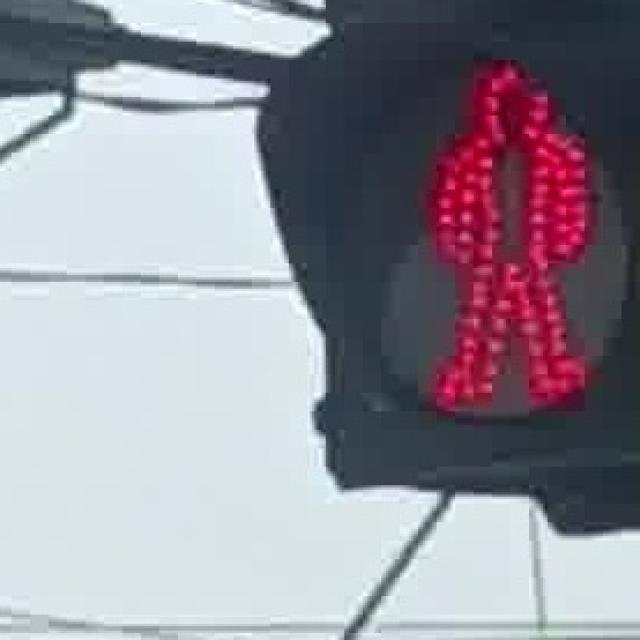red-crossing: (400, 41, 608, 422)
